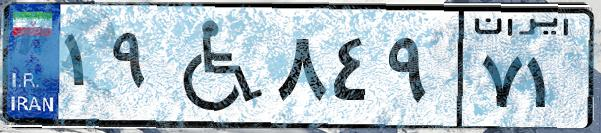1: (57, 26, 110, 100), (525, 38, 570, 115)
4: (330, 28, 385, 110)
7: (475, 38, 525, 113)
8: (270, 28, 330, 110)
9: (385, 28, 445, 110), (110, 28, 158, 98)
ژ (معلولین و جانبازان): (158, 12, 270, 120)
